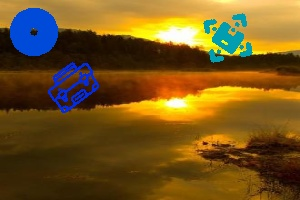工具箱: (47, 62, 100, 112)
方向: (202, 12, 253, 63)
铜钱: (10, 9, 60, 56)
